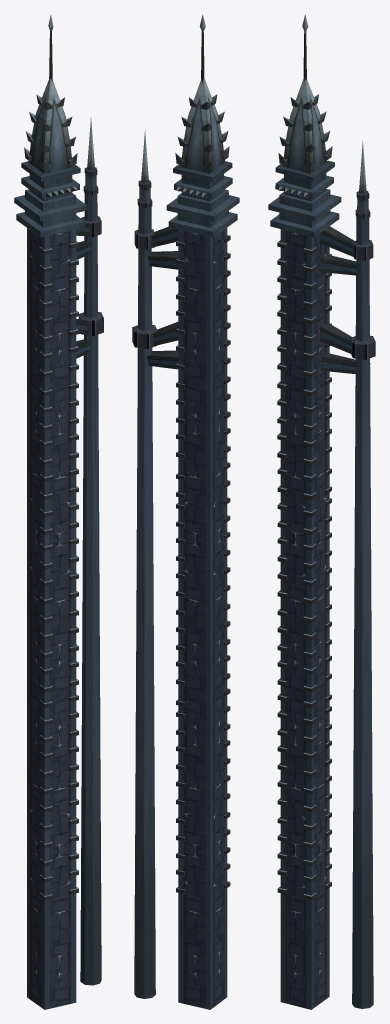
Rendered from Bedaying_yzjianzhu.FBX.
The picture shows the model from 3 angles, left to right: view 1: azimuth 30°, elevation 25°; view 2: azimuth 150°, elevation 25°; view 3: azimuth 330°, elevation 25°; orthographic projection.
Parts seen in each view (by area): view 1: Bedaying_yzjianzhu; view 2: Bedaying_yzjianzhu; view 3: Bedaying_yzjianzhu.
Boxes of the visible parts, x1,y1,x2,y2 form: Bedaying_yzjianzhu: (14, 15, 103, 1009); Bedaying_yzjianzhu: (132, 14, 239, 1009); Bedaying_yzjianzhu: (268, 14, 375, 1009).
Bounding box in the file's own units: 3736 × 2208 × 41690.
Materials: 1 (1 with a texture image).
